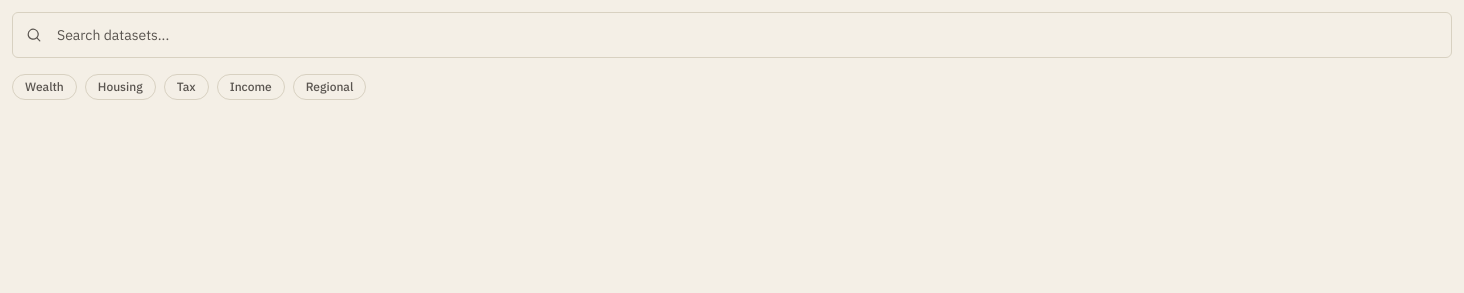
it: DatasetSearch › filters by category when chip is clicked
Click the button "Tax".
click(186, 87)  # box [164,74,209,100]
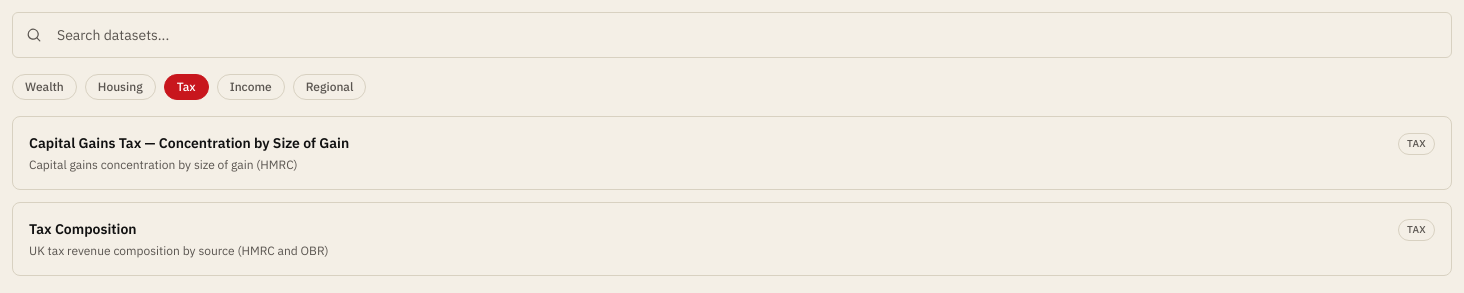
Expected: the list with id "dataset-search-results" is shown, [12,116,1452,276]
